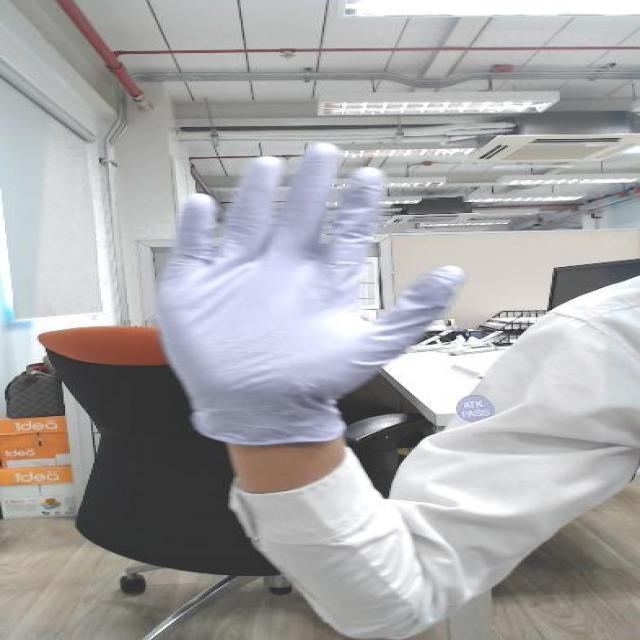with_gloves: (147, 126, 476, 397)
